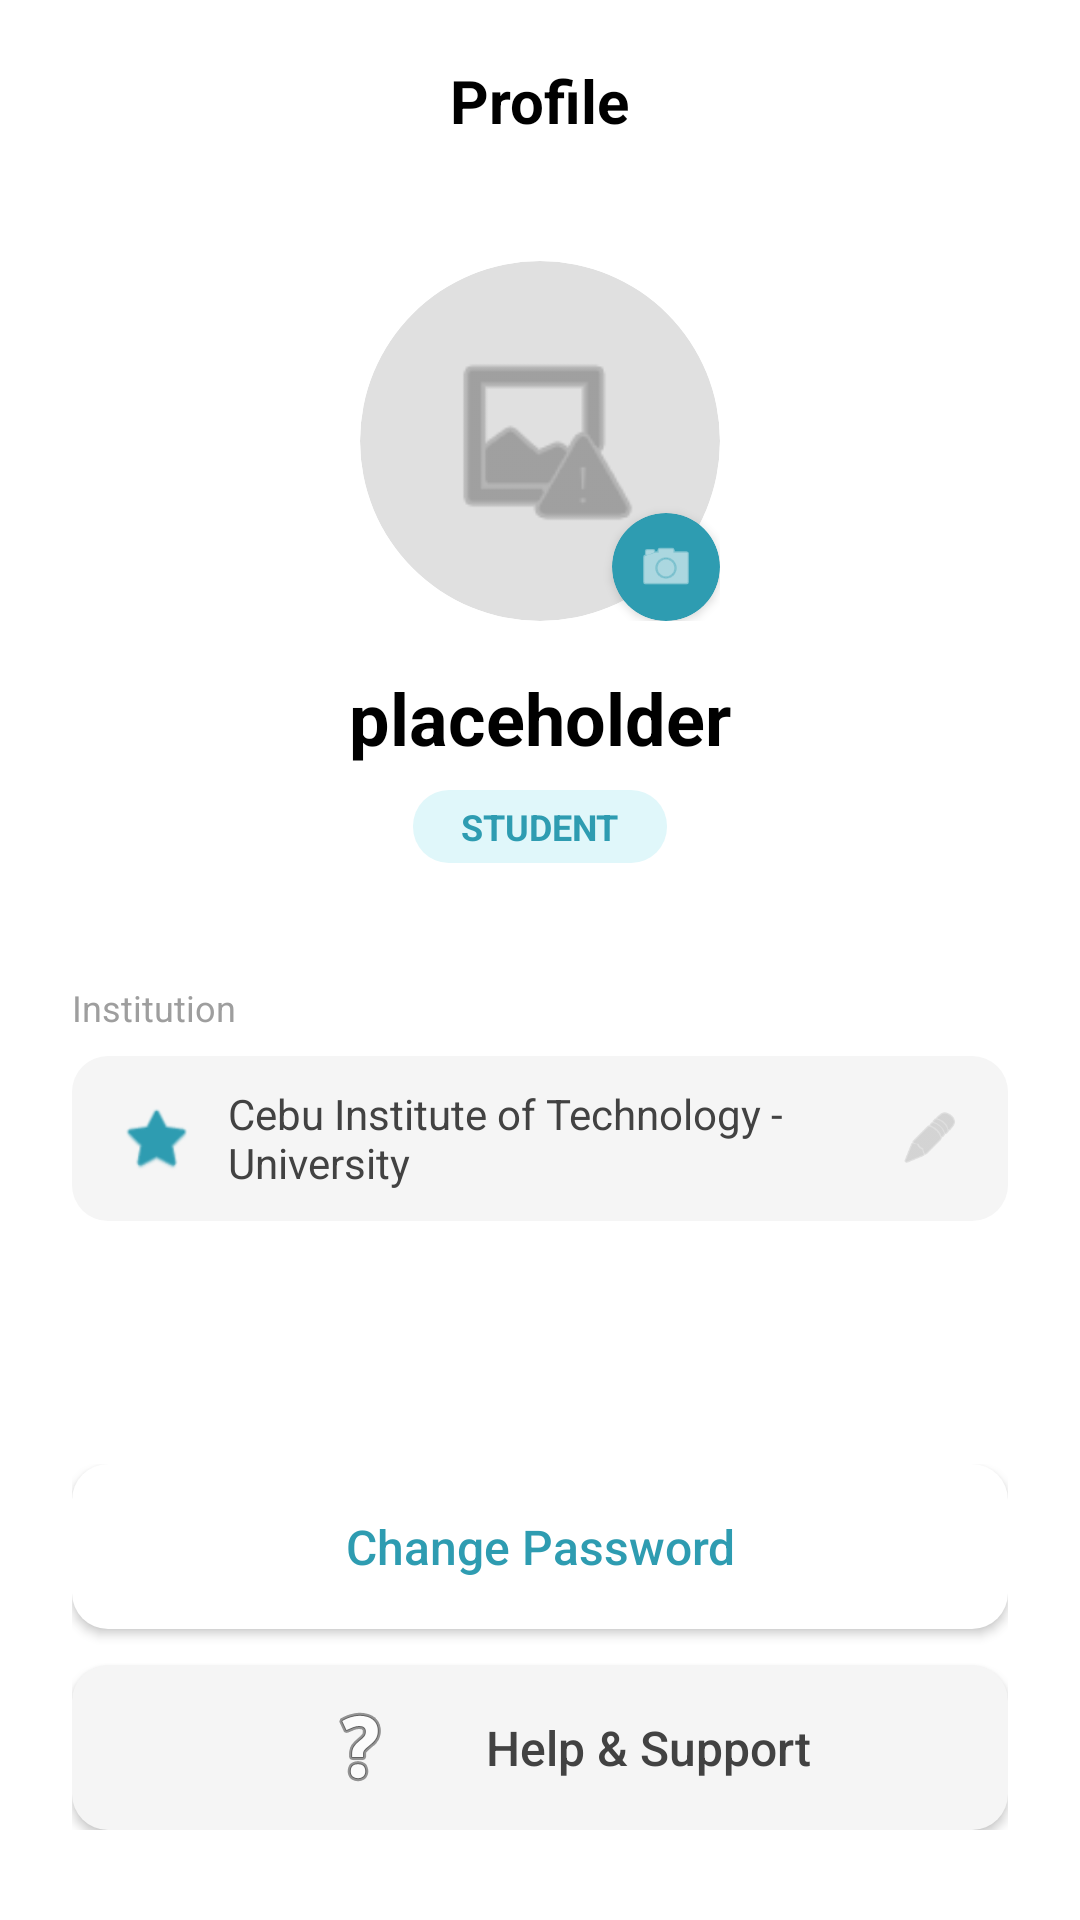

Icon click points for this 1080x1920 phone screenshot, format (x,y):
edit: (930,1137)
star on: (157,1138)
